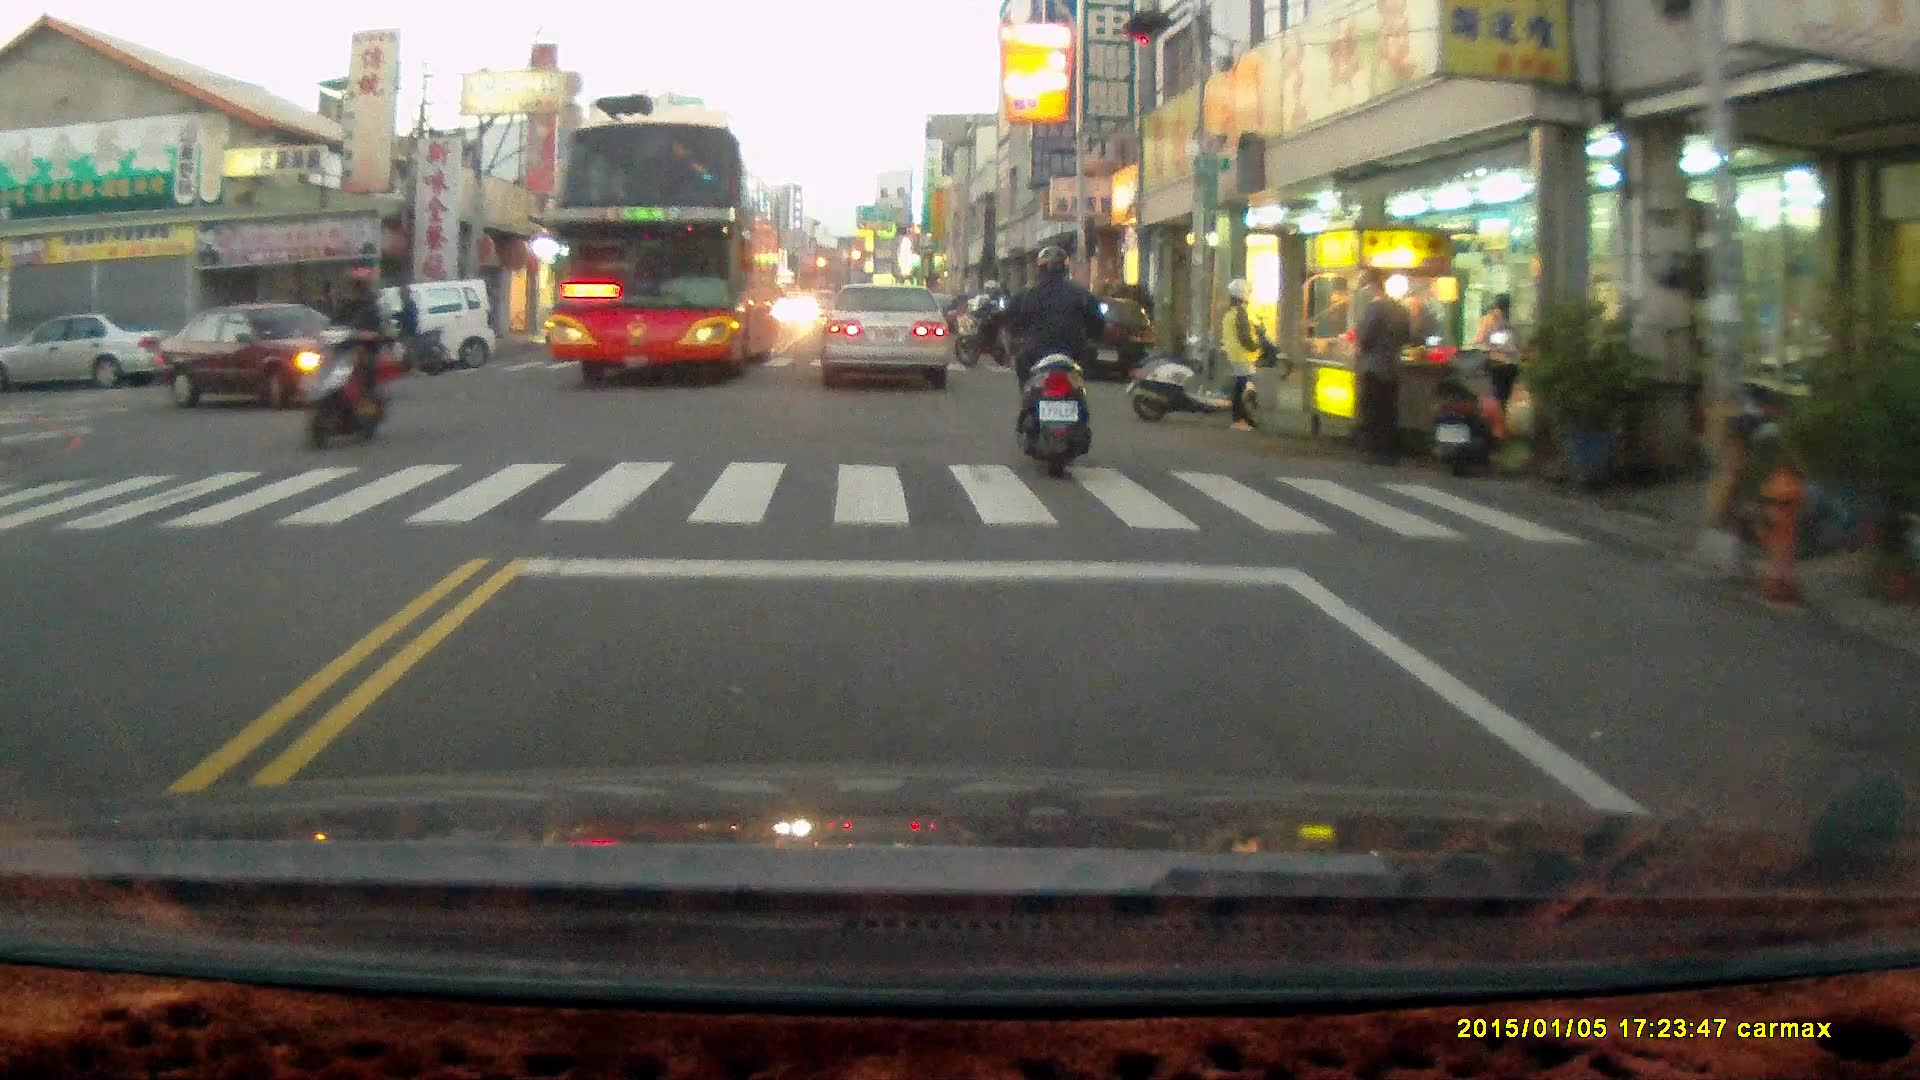pedestrian: (1353, 265, 1412, 462), (1473, 292, 1520, 449), (1220, 281, 1265, 439)
rider: (997, 241, 1110, 479), (288, 264, 391, 451), (372, 281, 445, 377), (951, 280, 1021, 369)
vehicle: (547, 119, 782, 389), (164, 304, 392, 409), (820, 281, 955, 390), (354, 275, 497, 372), (2, 311, 169, 388), (1047, 292, 1160, 384)
